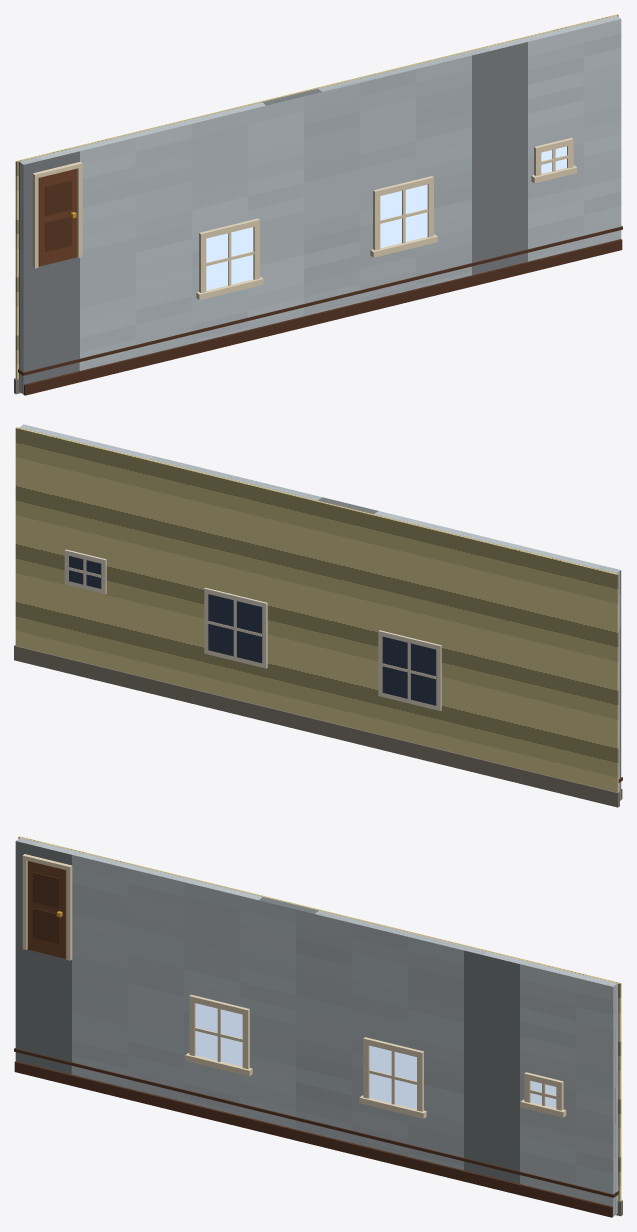
The model's file is back.glb.
The picture shows the model from 3 angles, top to bottom: view 1: azimuth 30°, elevation 25°; view 2: azimuth 150°, elevation 25°; view 3: azimuth 330°, elevation 25°; orthographic projection.
Visible parts, largest first — view 1: Box1, Box2, Box42, Box43, Box24, Box13, slab, Box3, slab_panel, slab_panel2, Box39, Box40 (+2 smaller); view 2: Box3, Box4, Box1, Box17, Box6, Box5, Box16, Box27, Box28; view 3: Box1, Box2, Box42, Box43, Box24, Box13, slab, Box3, slab_panel2, slab_panel, Box40, Box39 (+2 smaller).
Part boxes in pixels (x1,y1,x2,y2): Box1: (19, 15, 621, 394); Box2: (24, 239, 622, 395); Box42: (19, 230, 621, 394); Box43: (18, 226, 622, 375); Box24: (206, 227, 253, 290); Box13: (380, 184, 427, 248); slab: (38, 168, 77, 266); Box3: (15, 14, 618, 379); slab_panel: (45, 216, 71, 251); slab_panel2: (45, 180, 71, 215); Box39: (32, 172, 38, 268); Box40: (77, 161, 82, 257); Box3: (15, 427, 618, 792); Box4: (14, 645, 619, 807); Box1: (19, 424, 621, 800); Box17: (382, 636, 436, 705); Box6: (208, 594, 262, 663); Box5: (204, 587, 267, 668); Box16: (378, 630, 441, 710); Box27: (64, 549, 106, 594); Box28: (69, 556, 101, 588); Box1: (15, 837, 617, 1216); Box2: (14, 1061, 612, 1217); Box42: (15, 1052, 617, 1215); Box43: (14, 1048, 618, 1197); Box24: (195, 1003, 242, 1066); Box13: (369, 1046, 416, 1109); slab: (27, 861, 66, 958); Box3: (18, 836, 621, 1201); slab_panel2: (33, 872, 59, 908); slab_panel: (33, 908, 59, 944); Box40: (66, 864, 72, 960); Box39: (22, 854, 27, 949).
Bounding box in the file's own units: 11.27 × 4.14 × 0.373.
Materials: 11 (2 with a texture image).
